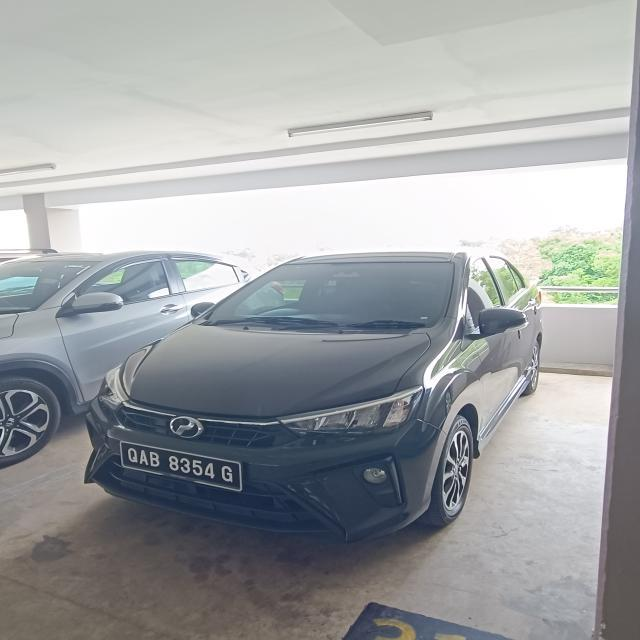PeroduaBezza: (82, 247, 544, 544)
